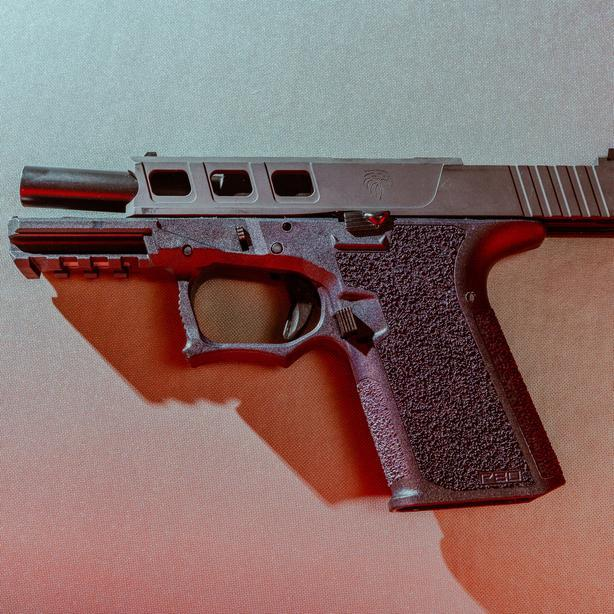Firearm: (12, 153, 614, 526)
